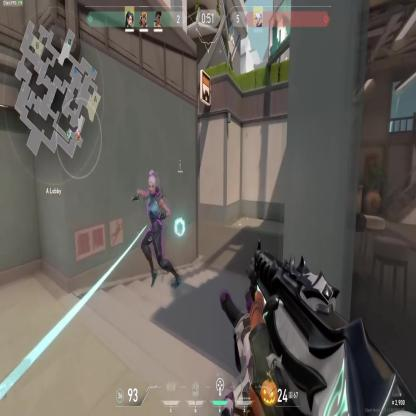enemy: (131, 171, 180, 290)
enemy_head: (148, 172, 156, 195)
